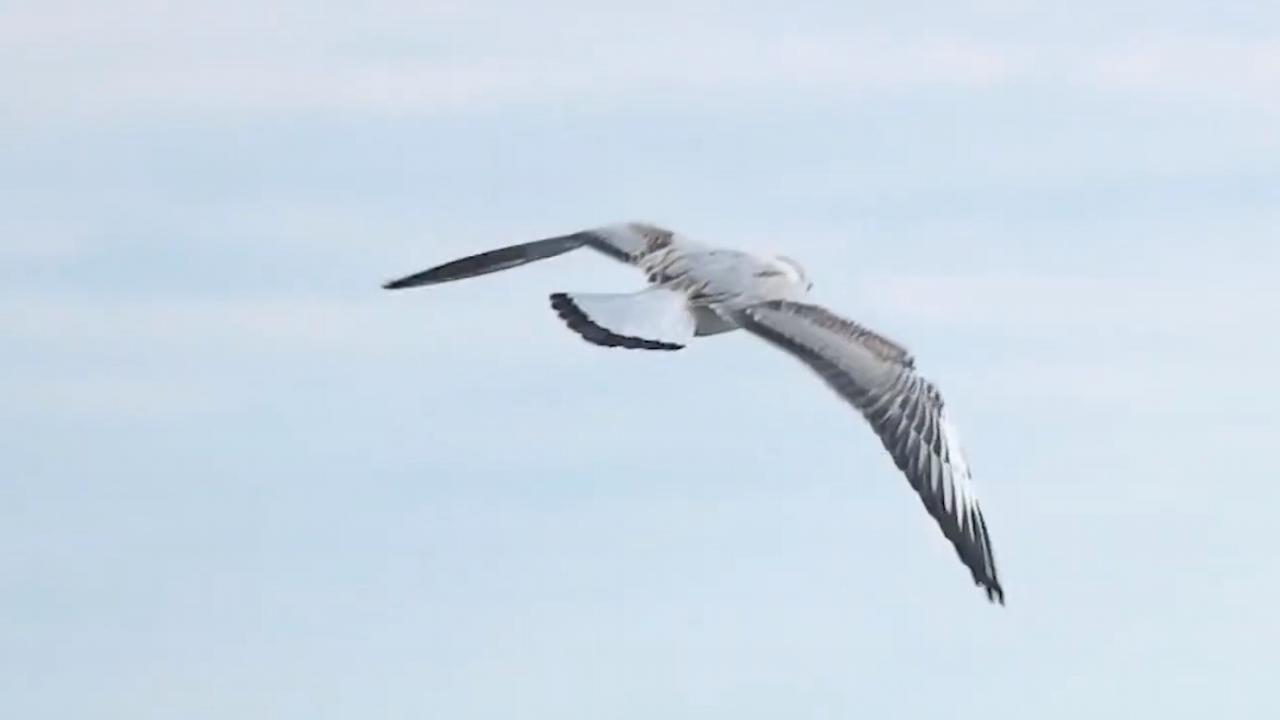Bird: (378, 212, 1023, 629)
